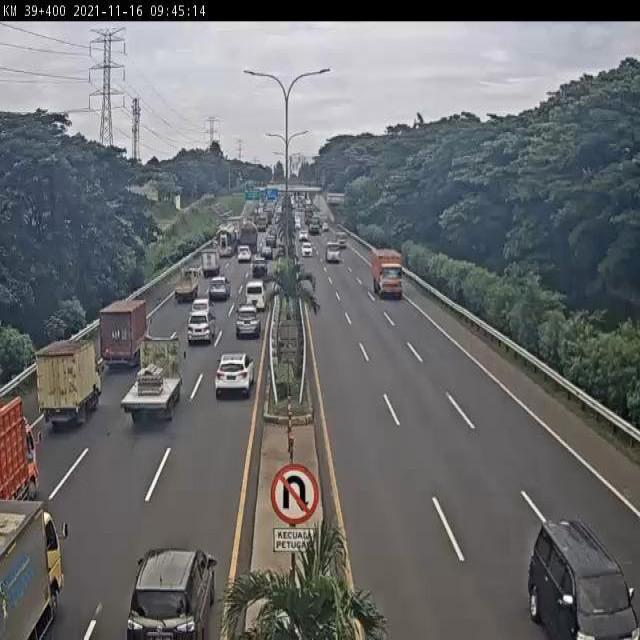car: (528, 520, 640, 640), (214, 353, 255, 399), (184, 314, 212, 349), (238, 308, 262, 339), (207, 278, 227, 306), (185, 300, 207, 323), (251, 261, 269, 279)
small bus: (245, 283, 264, 313)
small truck: (32, 342, 99, 434), (170, 267, 196, 304), (201, 245, 220, 278)
truck-m-: (118, 337, 187, 424), (97, 298, 150, 371), (373, 248, 406, 299)
